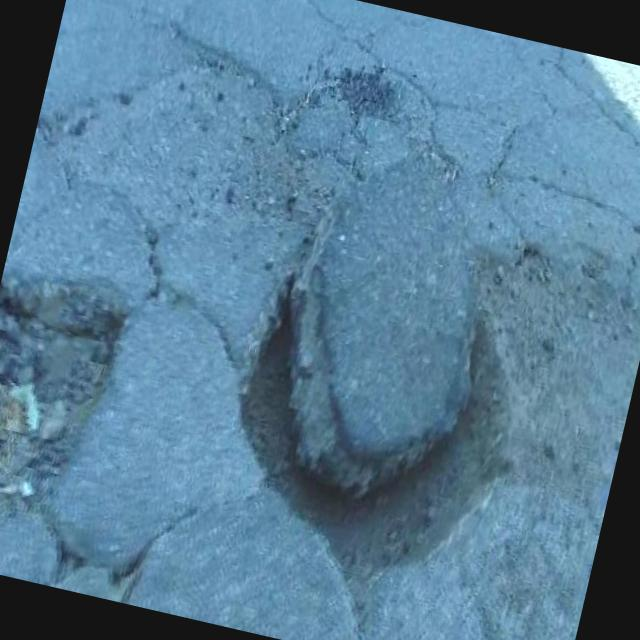pothole: (198, 224, 552, 618), (0, 263, 140, 539)
